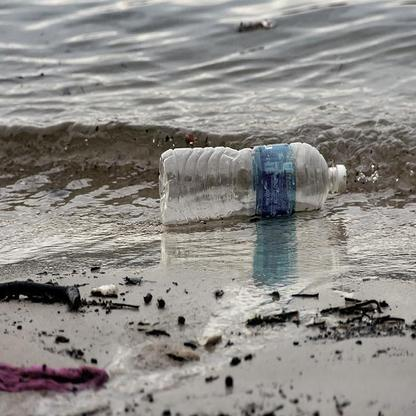plastic bottle: (158, 143, 348, 225)
